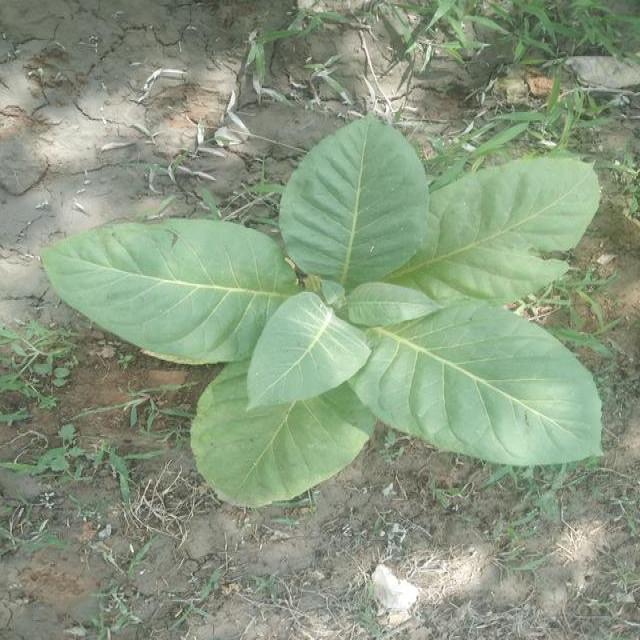crop: (39, 123, 608, 489)
